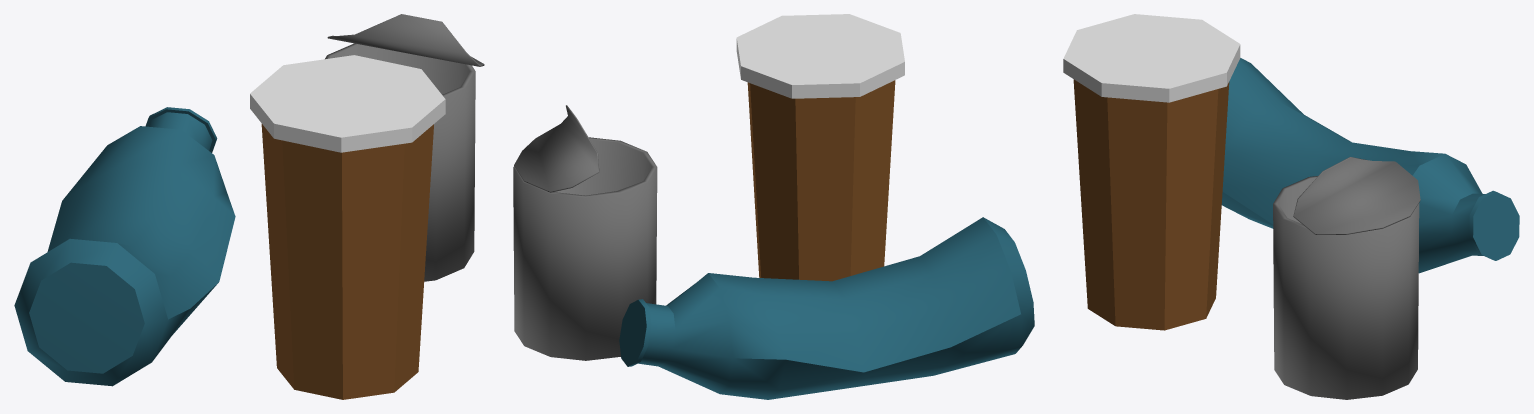
File: trashes2.glb
3 renders of one model, left to right at view 1: azimuth 30°, elevation 25°; view 2: azimuth 150°, elevation 25°; view 3: azimuth 270°, elevation 25°, orthographic. The views are drawn at different scales.
Visible parts, largest first — view 1: trashes2; view 2: trashes2; view 3: trashes2.
Part boxes in pixels (box(x1,y1,x2,y2)): trashes2: box(14, 14, 484, 399); trashes2: box(513, 14, 1034, 399); trashes2: box(1063, 14, 1519, 399).
Size of the model in its own units: 0.604 by 0.3142 by 0.5154.
